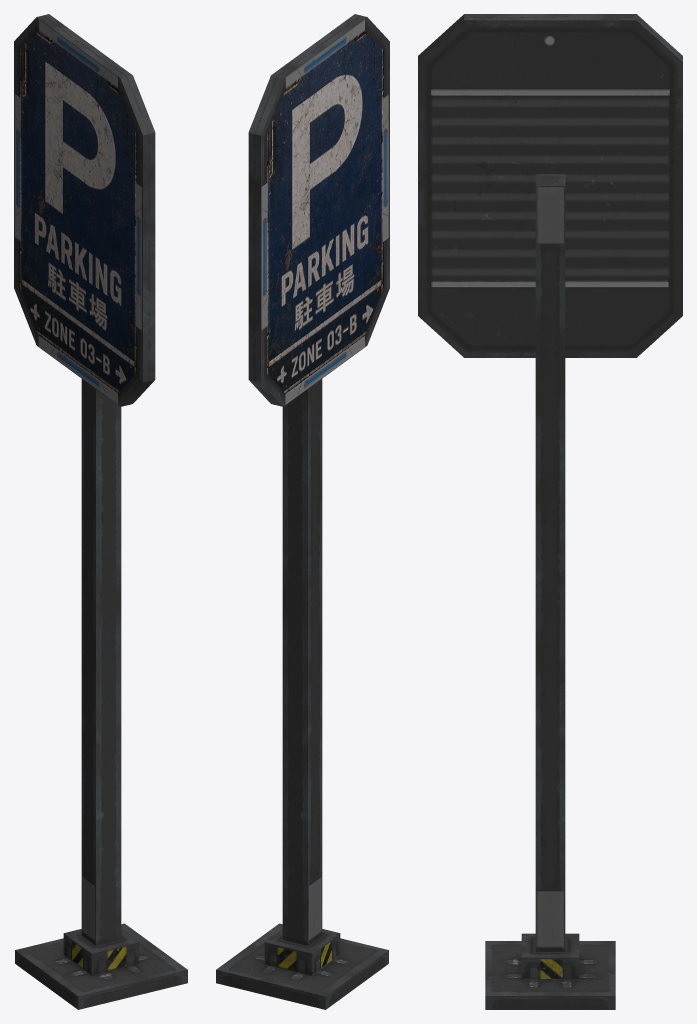
The model's file is CP_Road_Sign_Parking.fbx.
The picture shows the model from 3 angles, left to right: view 1: azimuth 30°, elevation 25°; view 2: azimuth 150°, elevation 25°; view 3: azimuth 270°, elevation 25°; orthographic projection. The views are drawn at different scales.
Visible parts, largest first — view 1: CP_Road_Sign_Parking; view 2: CP_Road_Sign_Parking; view 3: CP_Road_Sign_Parking.
Boxes of the visible parts, <box> form: CP_Road_Sign_Parking: <box>14,14,187,1009</box>; CP_Road_Sign_Parking: <box>216,14,389,1009</box>; CP_Road_Sign_Parking: <box>418,14,682,1009</box>.
Size of the model in its own units: 34.27 by 278 by 69.76.
